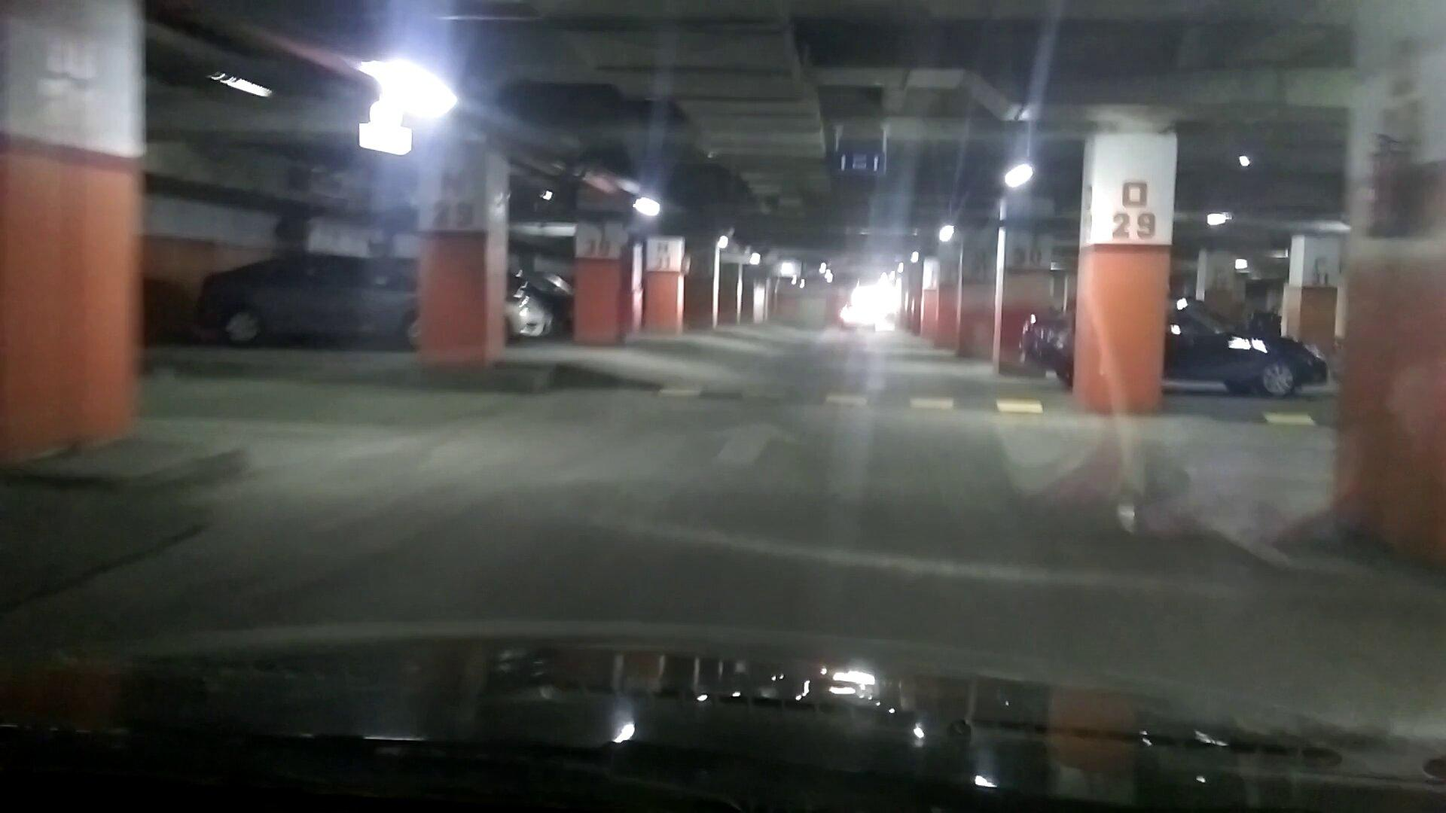Bump: (561, 371, 1077, 433)
